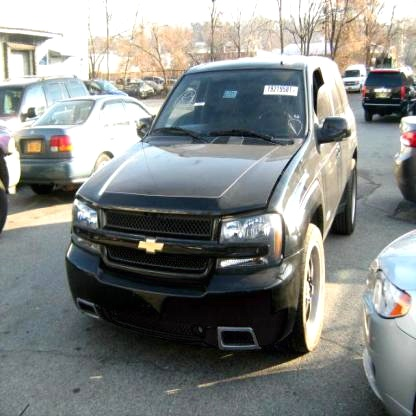Vehicle: (65, 57, 360, 353)
